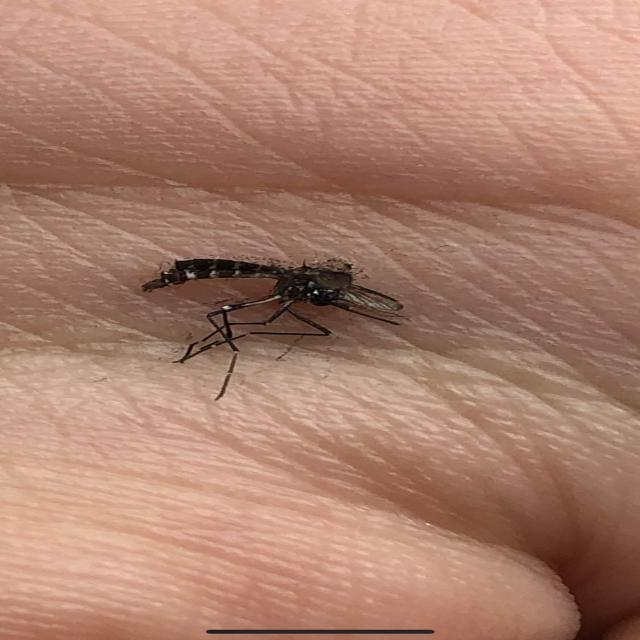albopictus: (139, 245, 412, 401)
